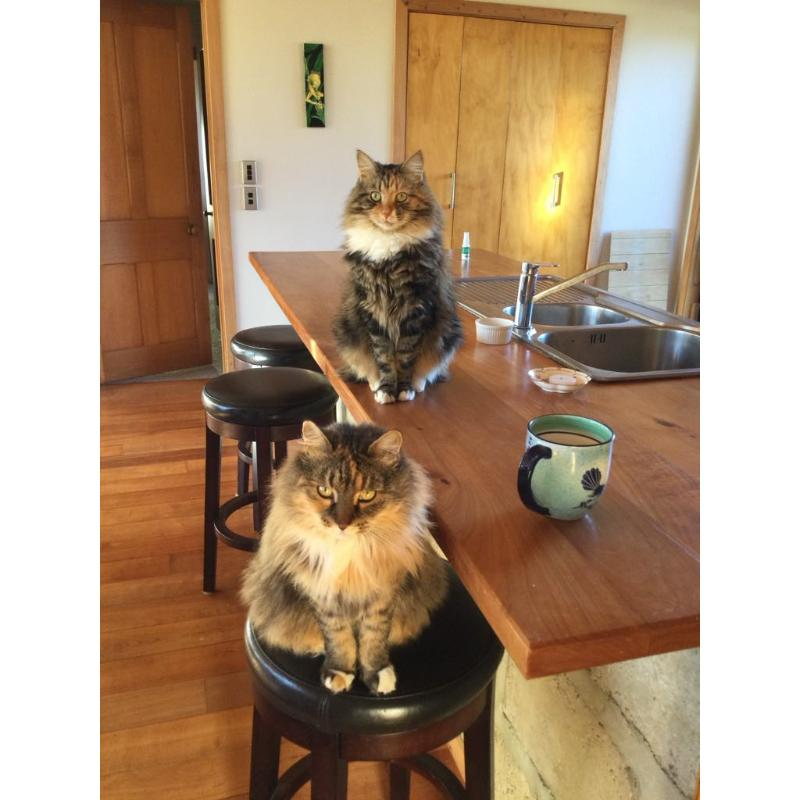red: (331, 146, 463, 403)
yellow: (244, 419, 450, 693)
